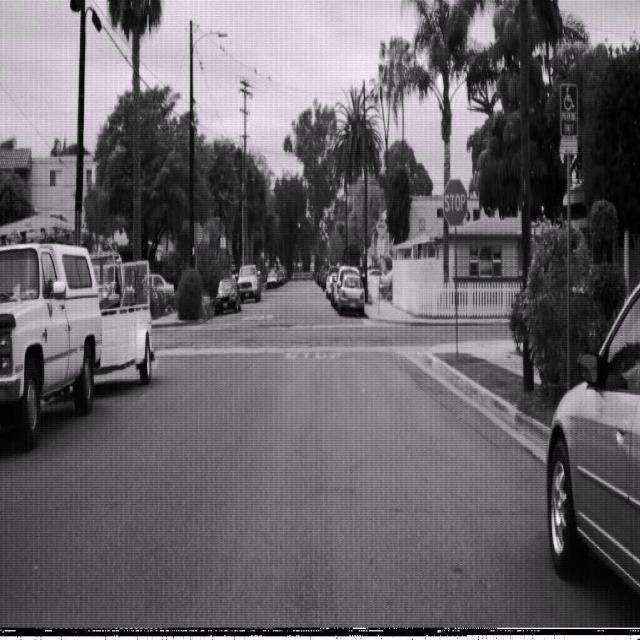stop_sign: (442, 177, 467, 228)
